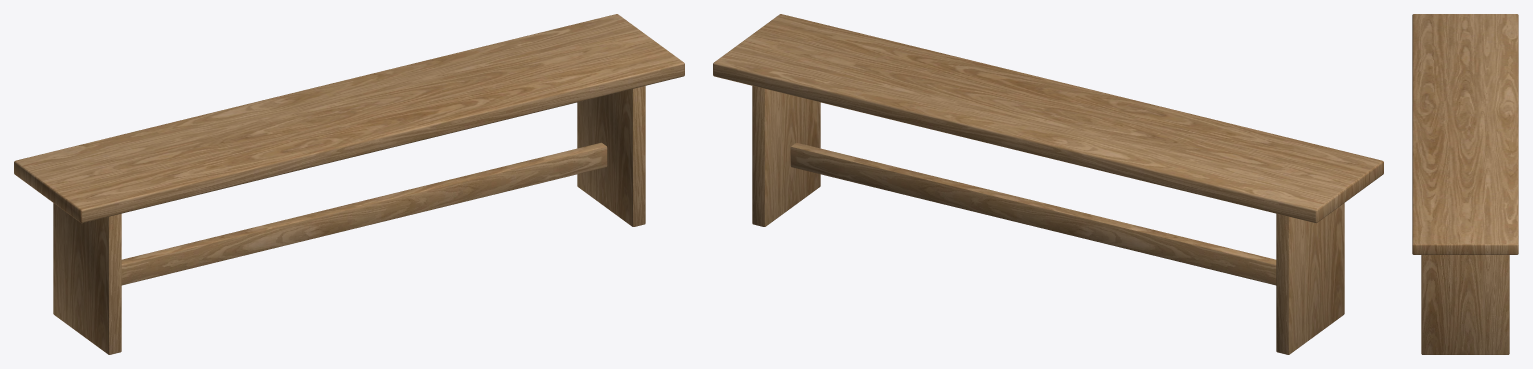
Rendered from banco_madera_180.glb.
3 views of the same model, side by side, from view 1: azimuth 30°, elevation 25°; view 2: azimuth 150°, elevation 25°; view 3: azimuth 270°, elevation 25° (orthographic). The views are drawn at different scales.
Visible parts, largest first — view 1: banco_madera_180; view 2: banco_madera_180; view 3: banco_madera_180.
Part boxes in pixels (x1=…): banco_madera_180: x1=14, y1=14, x2=684, y2=354; banco_madera_180: x1=713, y1=14, x2=1383, y2=354; banco_madera_180: x1=1412, y1=14, x2=1518, y2=354.
Bounding box in the file's own units: 1.8 × 0.4501 × 0.35.
1 material, 1 textured.
